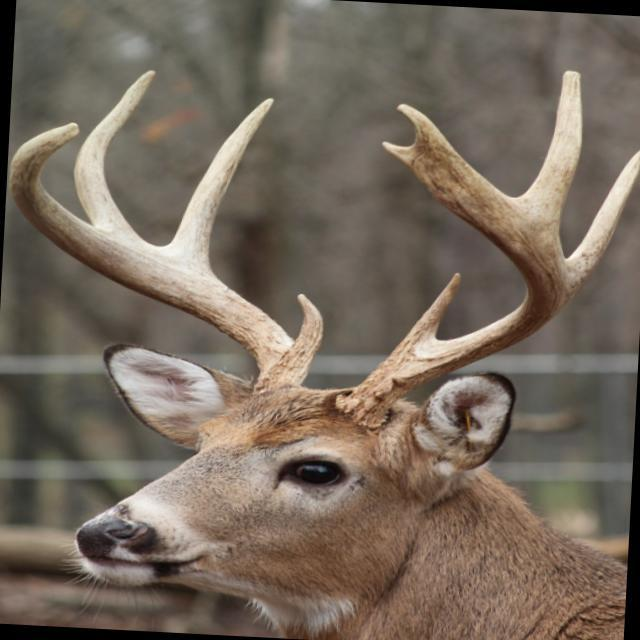E1: (396, 102, 456, 151)
L-F: (335, 141, 576, 428)
L-G1: (389, 271, 462, 358)
L-G2: (566, 150, 640, 289)
R-F: (9, 123, 301, 404)
R-G1: (286, 293, 324, 369)
R-G2: (163, 97, 275, 274)
R-G3: (74, 70, 156, 238)
